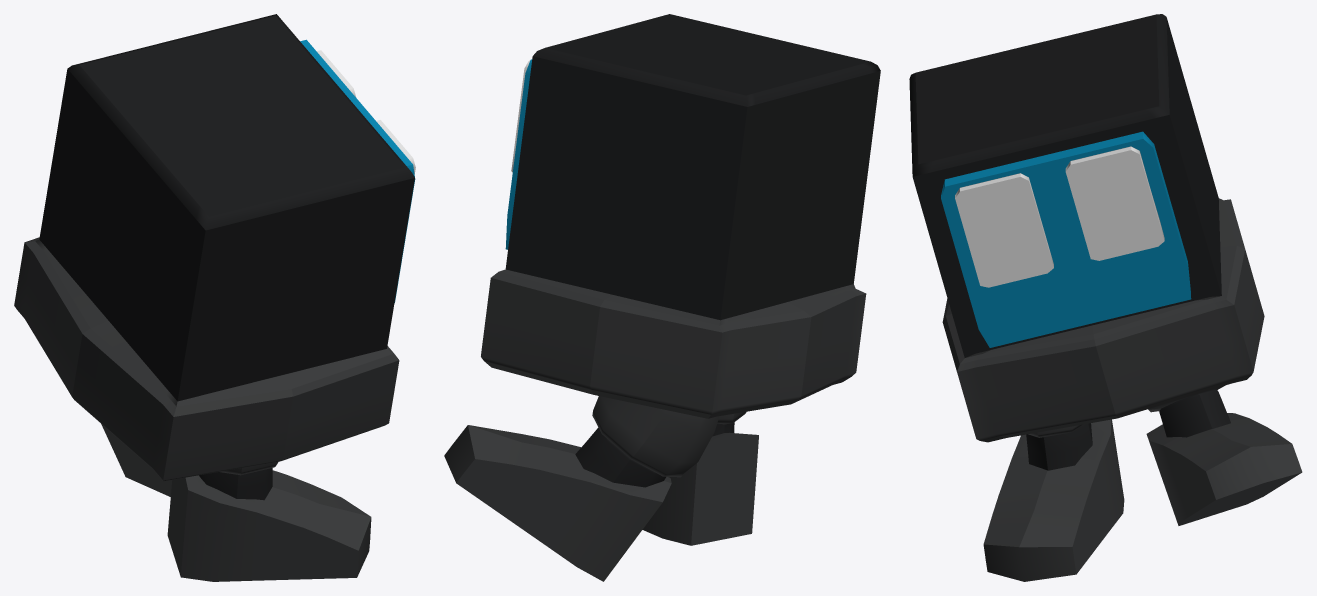
The model's file is Mech.fbx.
3 renders of one model, left to right at view 1: azimuth 30°, elevation 25°; view 2: azimuth 150°, elevation 25°; view 3: azimuth 270°, elevation 25°, orthographic. The views are drawn at different scales.
Parts seen in each view (by area): view 1: pCube8; view 2: pCube8; view 3: pCube8.
Part boxes in pixels (x1,y1,x2,y2): pCube8: (14,14,415,581); pCube8: (444,14,880,581); pCube8: (909,14,1302,581).
Size of the model in its own units: 1.08 by 1.85 by 1.4.
